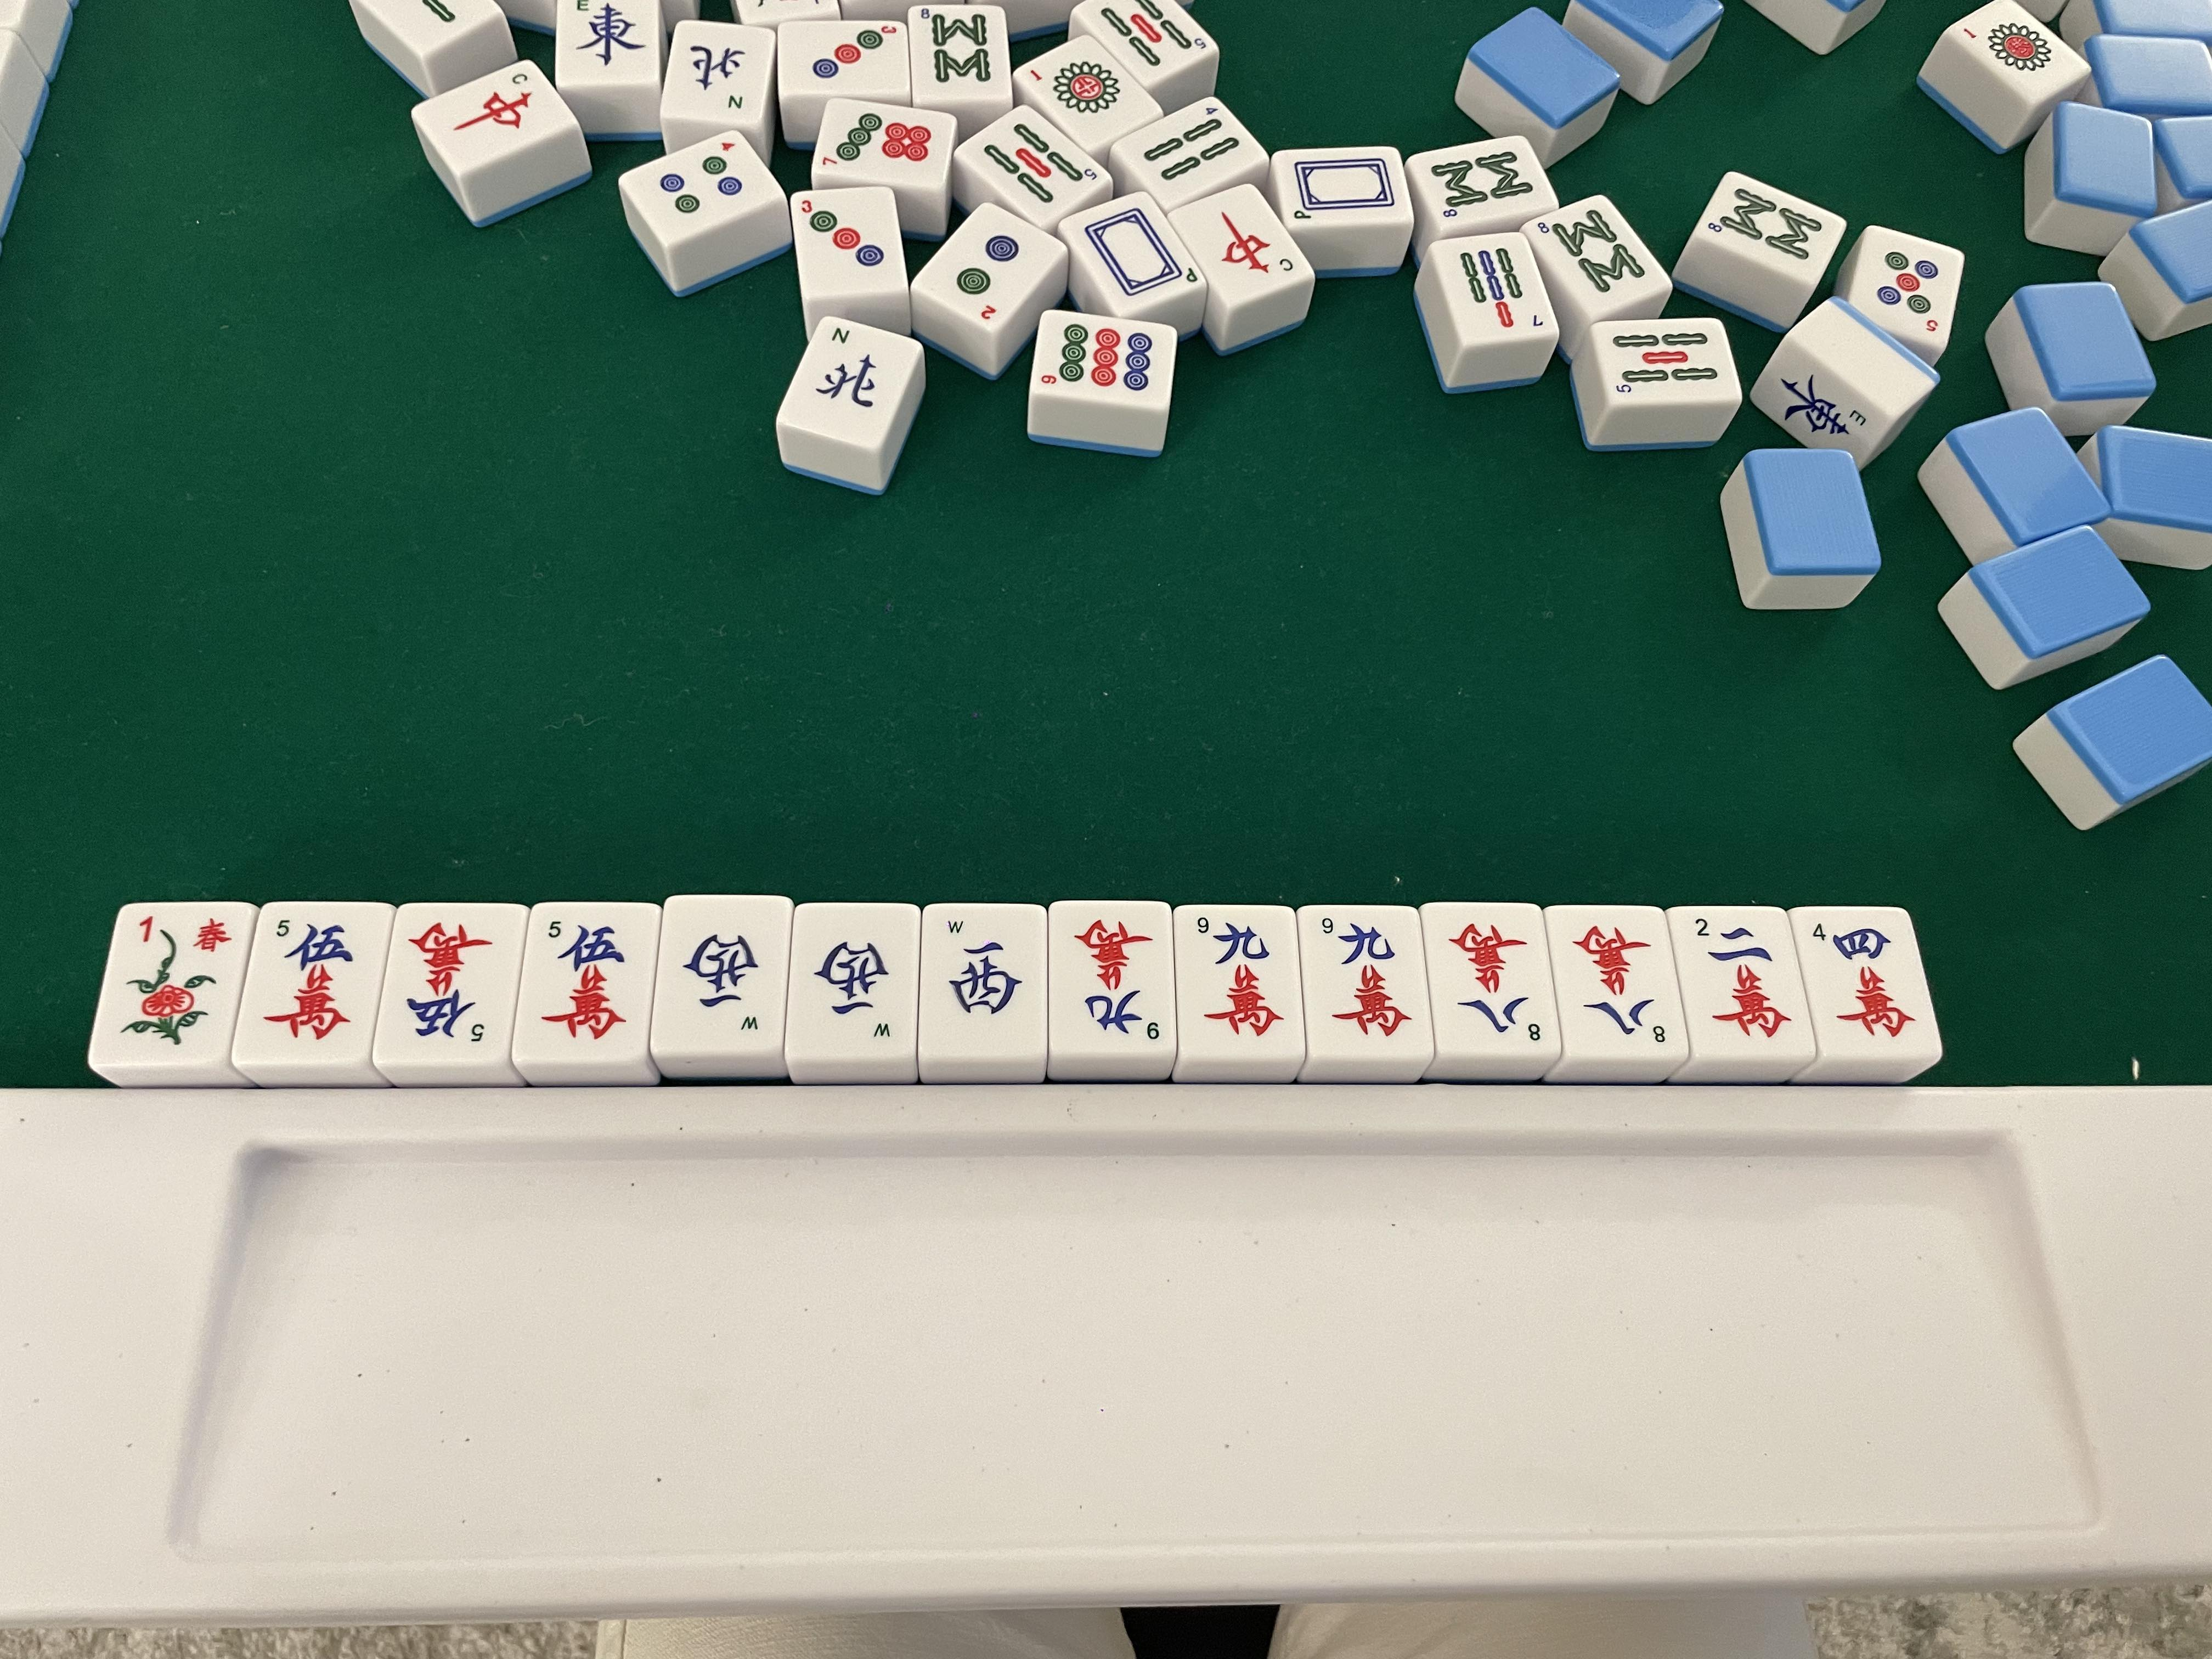character-eight: (1437, 908, 1548, 1042), (1564, 911, 1669, 1051)
character-five: (260, 903, 369, 1058), (395, 913, 502, 1051), (535, 913, 634, 1056)
character-four: (1808, 910, 1923, 1046)
character-nine: (1308, 906, 1423, 1053), (1059, 906, 1167, 1042), (1188, 908, 1291, 1047)
character-two: (1686, 911, 1796, 1046)
flower-red_one: (125, 904, 230, 1058)
honor-west_wind: (932, 908, 1042, 1051), (799, 911, 909, 1047), (669, 906, 768, 1047)
